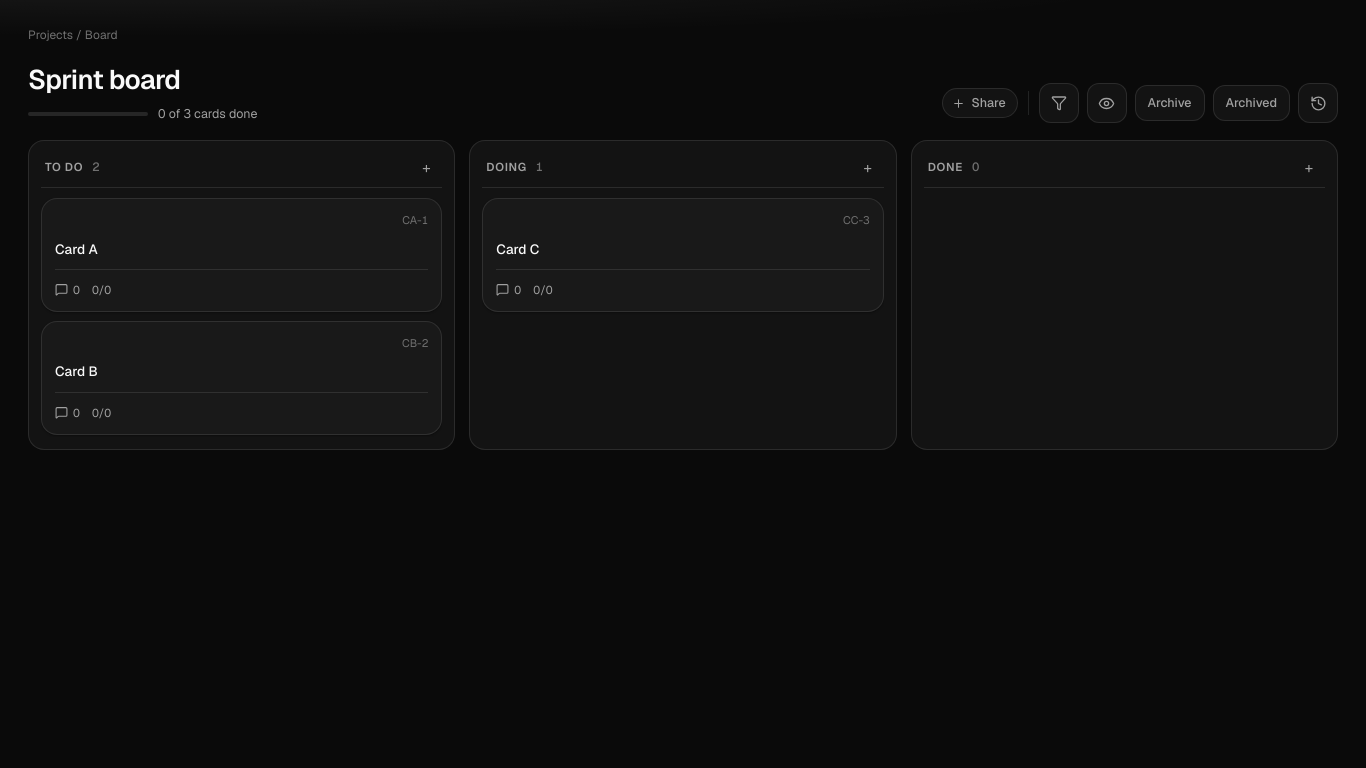
ProjectBoard › opens the card detail when a board card is clicked
This screenshot has width=1366, height=768.
Click the heading "Card A" at (76, 248), box 55,240 -> 98,258
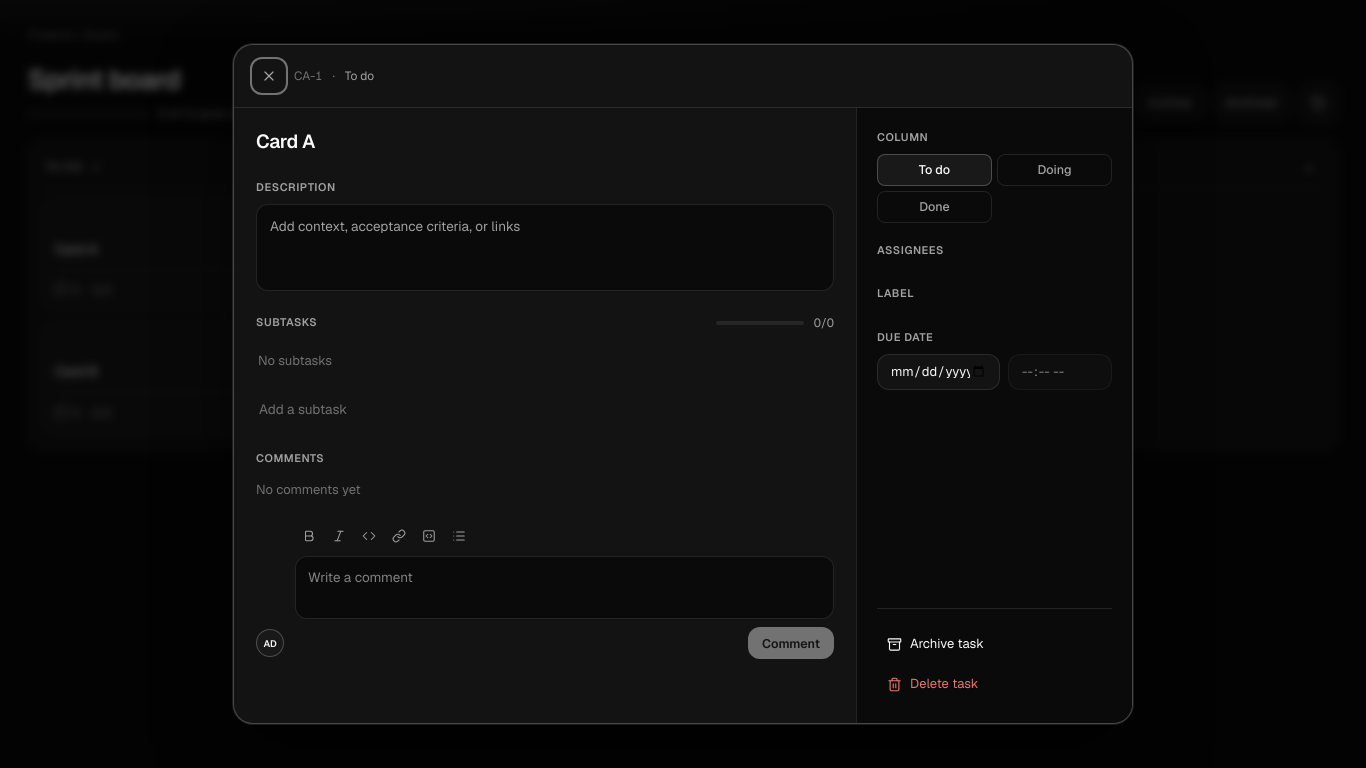
Check: the element named "Title" reads "Card A", box 256,129 -> 315,154
Check: the dialog shows "CA-1", box 294,68 -> 322,84
